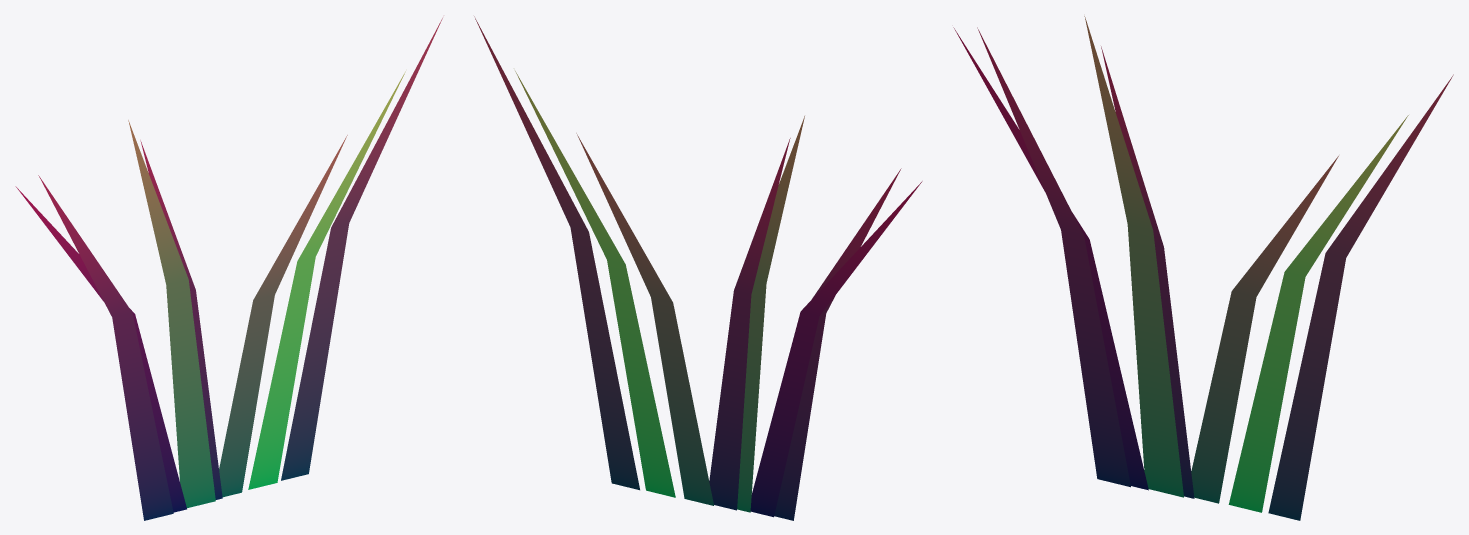
Rendered from grass_clump1.fbx.
3 views of the same model, side by side, from view 1: azimuth 30°, elevation 25°; view 2: azimuth 150°, elevation 25°; view 3: azimuth 330°, elevation 25° (orthographic). The views are drawn at different scales.
Visible parts, largest first — view 1: grass_clump1; view 2: grass_clump1; view 3: grass_clump1.
Part boxes in pixels (left/top/right/bottom): grass_clump1: left=15, top=18, right=442, bottom=520; grass_clump1: left=474, top=16, right=922, bottom=520; grass_clump1: left=953, top=16, right=1453, bottom=520.
Bounding box in the file's own units: 66.19 × 61.92 × 1.8.
